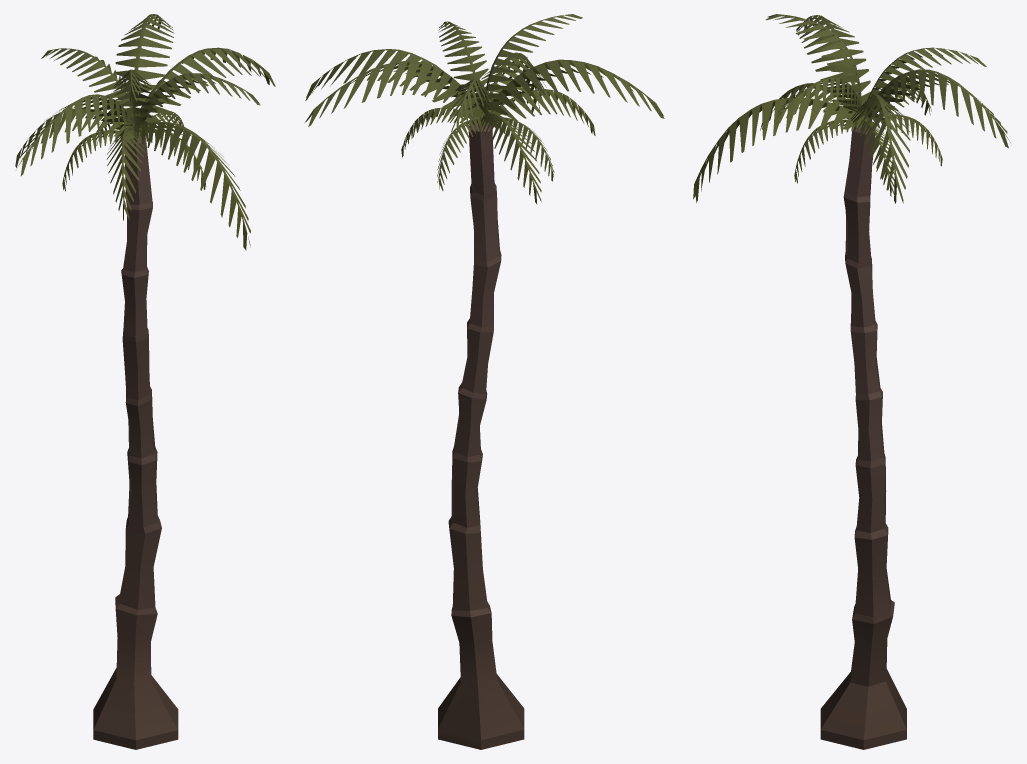
The model's file is Tree10.FBX.
3 views of the same model, side by side, from view 1: azimuth 30°, elevation 25°; view 2: azimuth 150°, elevation 25°; view 3: azimuth 270°, elevation 25° (orthographic).
Parts seen in each view (by area): view 1: Palm002; view 2: Palm002; view 3: Palm002.
Part boxes in pixels (x1,y1,x2,y2): Palm002: [15, 14, 275, 749]; Palm002: [305, 14, 664, 749]; Palm002: [693, 14, 1010, 749].
Bounding box in the file's own units: 603 × 1282 × 535.
